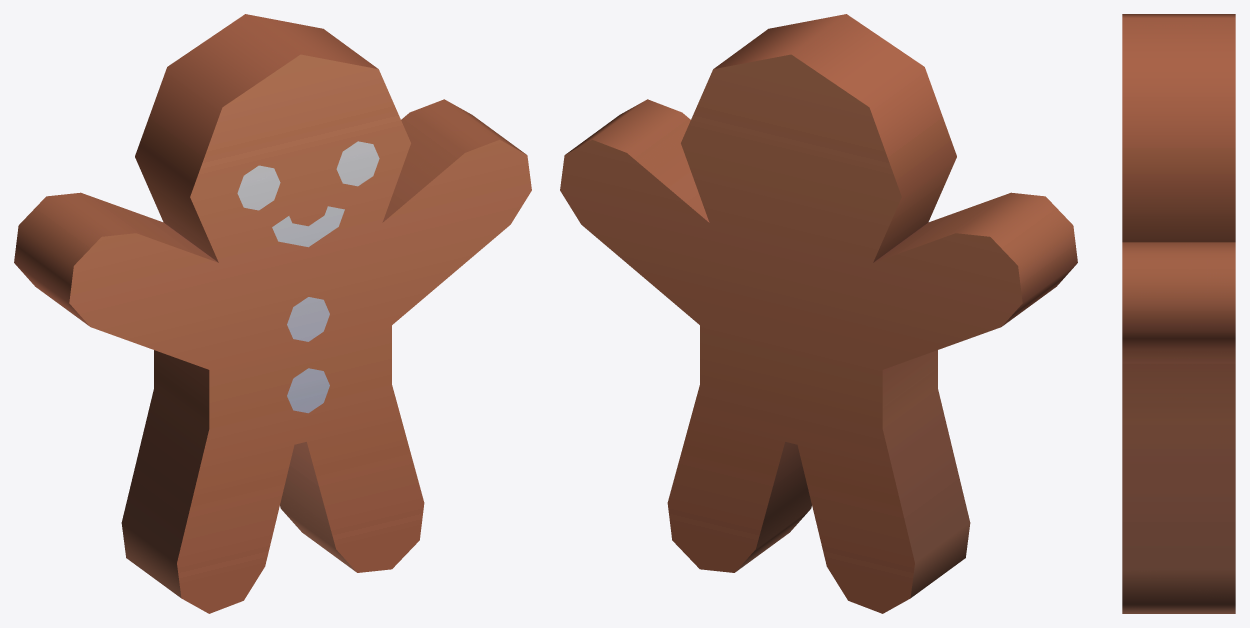
File: gingerbread-man.glb
The picture shows the model from 3 angles, left to right: view 1: azimuth 30°, elevation 25°; view 2: azimuth 150°, elevation 25°; view 3: azimuth 270°, elevation 25°; orthographic projection. The views are drawn at different scales.
Visible parts, largest first — view 1: gingerbread-man; view 2: gingerbread-man; view 3: gingerbread-man.
Part boxes in pixels (x1=…): gingerbread-man: x1=14, y1=14, x2=531, y2=613; gingerbread-man: x1=560, y1=14, x2=1077, y2=613; gingerbread-man: x1=1122, y1=14, x2=1235, y2=613.
Bounding box in the file's own units: 0.3393 × 0.3764 × 0.0802.
Materials: 1 (1 with a texture image).
